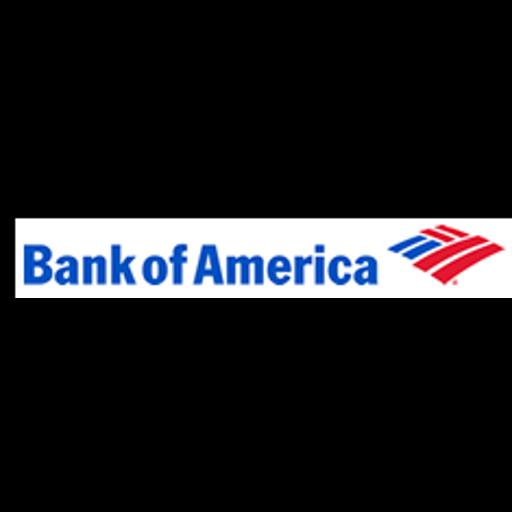Bank of America: (0, 214, 512, 298)
